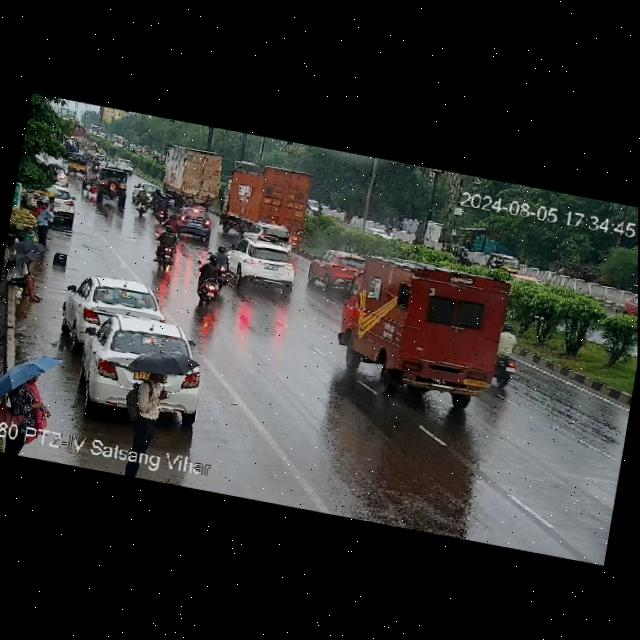car: (72, 310, 211, 432), (58, 268, 172, 365), (224, 234, 306, 298), (23, 179, 82, 228), (307, 246, 366, 294), (176, 202, 220, 244), (240, 218, 294, 245), (479, 251, 526, 277), (68, 151, 91, 177), (111, 153, 137, 175)
motorcycle: (191, 242, 234, 309), (147, 214, 185, 272), (492, 320, 523, 390), (133, 186, 150, 216), (154, 193, 170, 223), (91, 156, 102, 177), (458, 247, 472, 259)
person: (119, 350, 195, 455), (0, 344, 64, 429), (1, 242, 45, 303), (27, 198, 60, 246)
truck: (327, 245, 532, 416), (221, 158, 327, 256), (161, 144, 225, 205), (615, 271, 638, 326)
